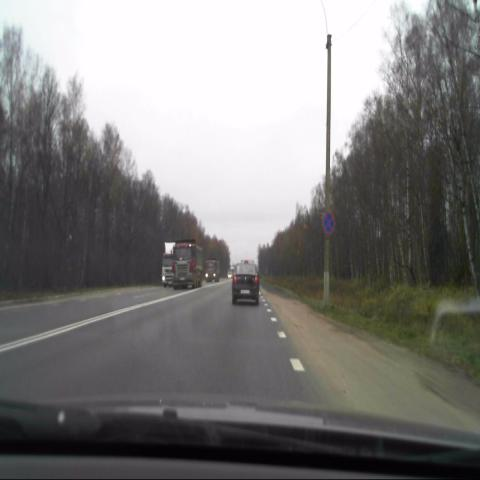3_27: (322, 211, 335, 237)
